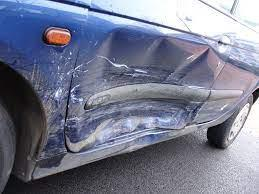doorouter-dent: (73, 9, 204, 144)
fender-dent: (0, 0, 69, 155)
